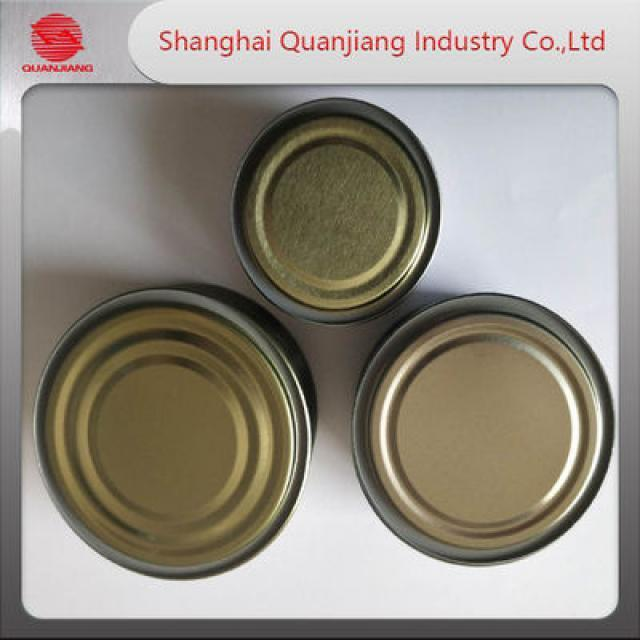metal-can: (34, 282, 316, 584), (348, 286, 612, 570), (227, 93, 443, 322)
